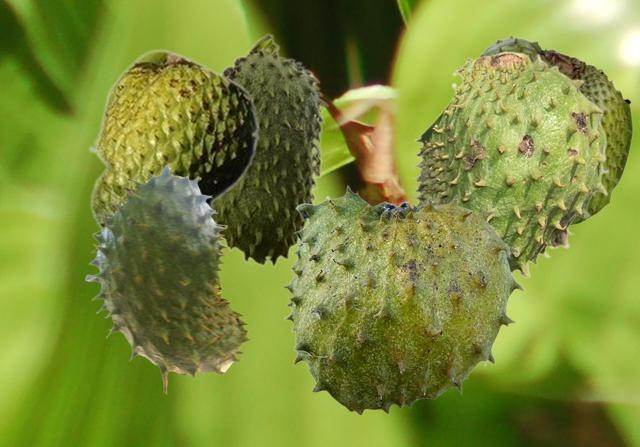guyabano: (282, 184, 523, 414), (408, 51, 608, 278), (85, 163, 249, 393), (87, 48, 259, 229), (479, 33, 632, 226), (212, 32, 328, 266)
